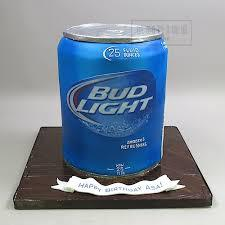beer: (55, 22, 169, 177)
